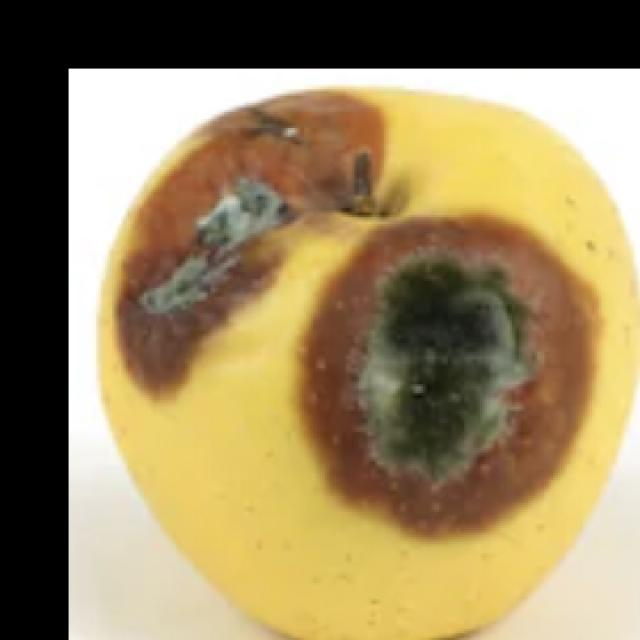Rotten: (145, 96, 640, 640)
